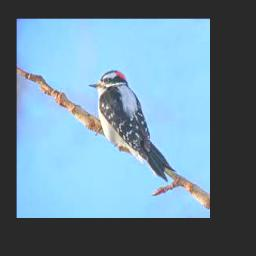Woodpecker: (88, 70, 175, 181)
